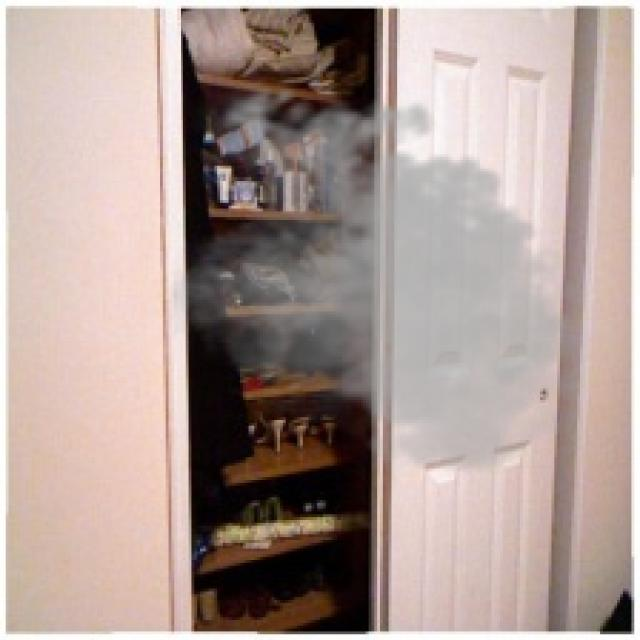smoke: (172, 74, 594, 483)
